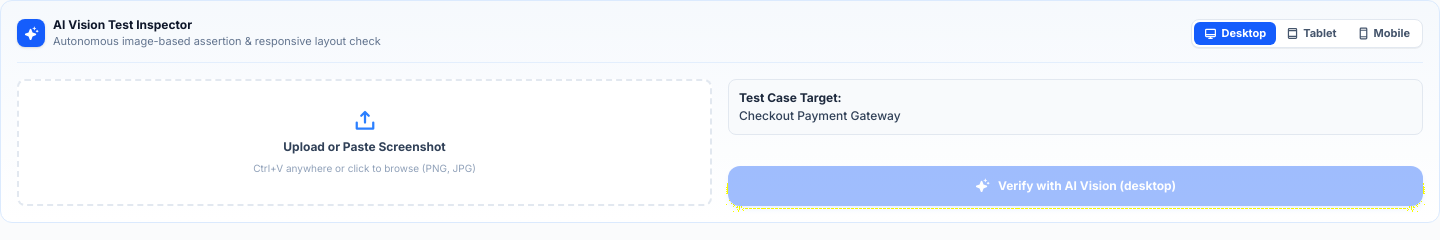
Scenario: AiVisionInspector › switches viewports correctly
Step 1. Click the button "Mobile" → [1383, 33], box [1346,22,1420,45]
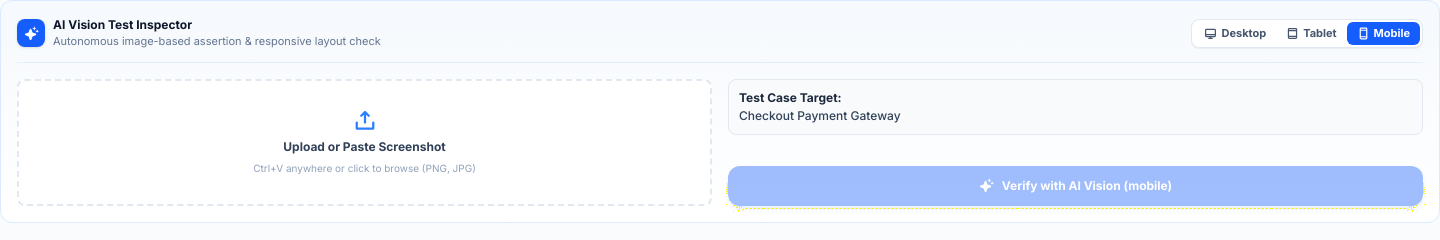
Result: the button "Verify with AI Vision (mobile)" is shown at [728,166,1423,206]
